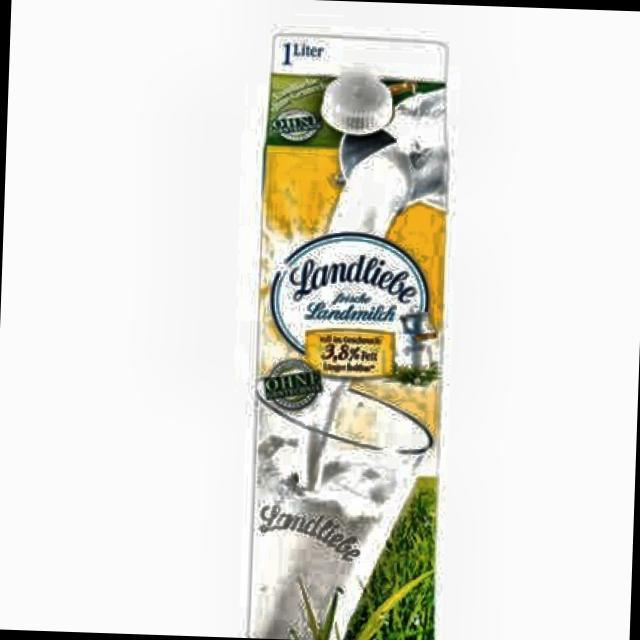cardboard: (243, 32, 453, 640)
